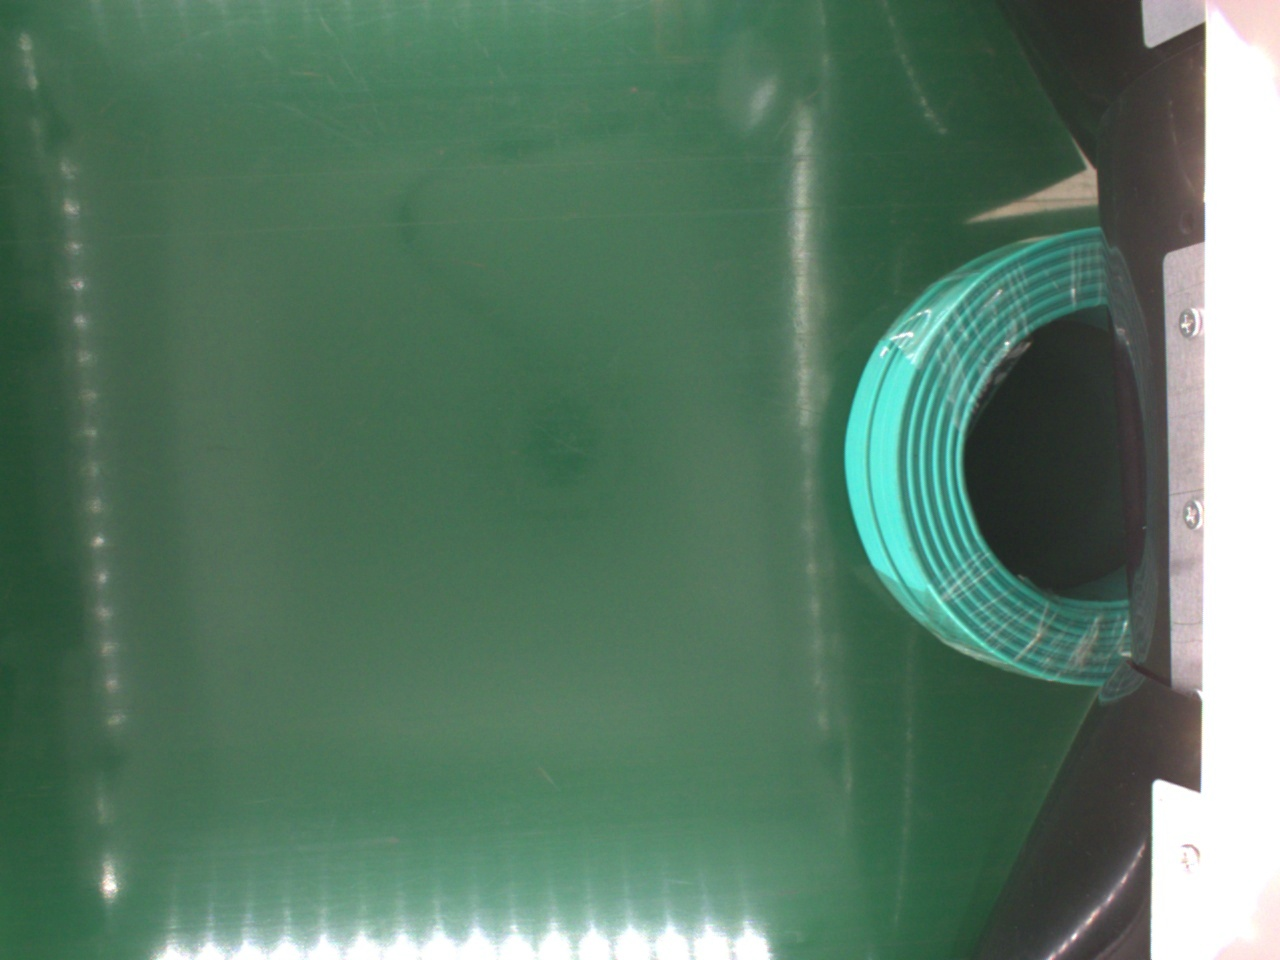green: (845, 221, 1158, 700)
